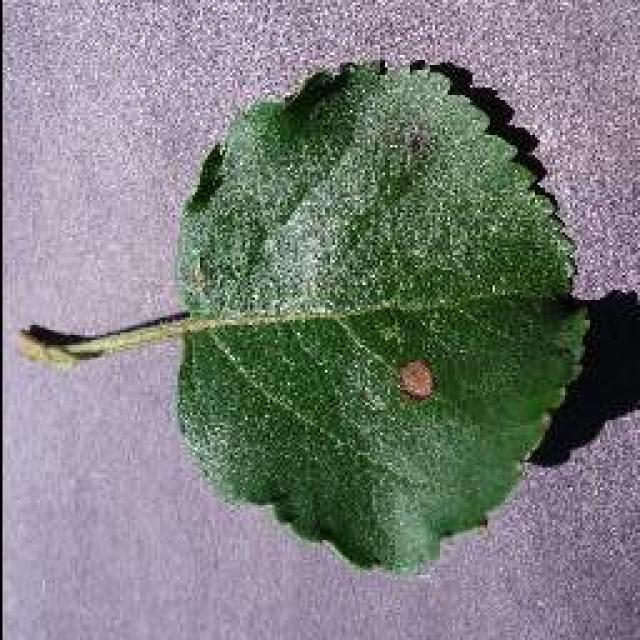Black_rot: (18, 55, 592, 575)
